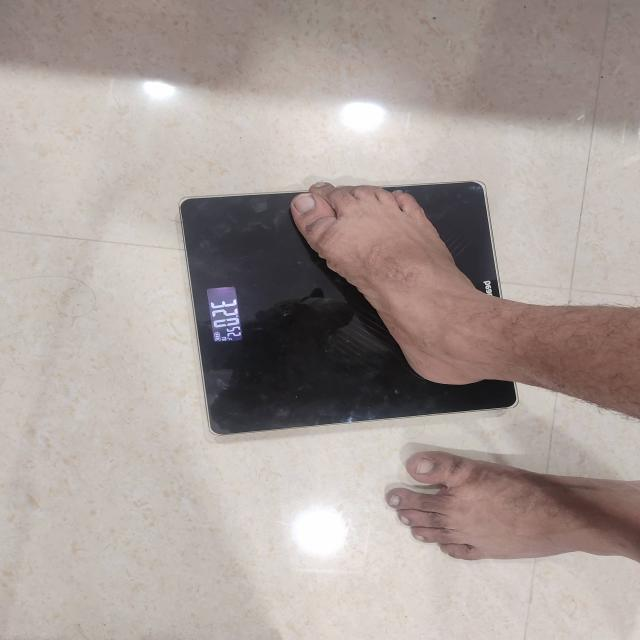ws: (178, 191, 520, 443)
